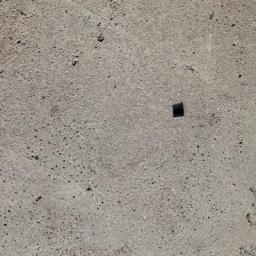FOD: (171, 99, 189, 123)
